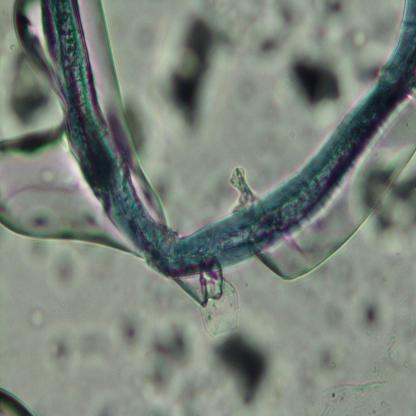Air bubble: (0, 2, 118, 260), (1, 389, 36, 416)
Background material: (269, 113, 416, 284), (154, 0, 233, 120), (118, 304, 193, 405), (356, 142, 416, 263), (273, 35, 351, 127), (356, 153, 416, 257), (209, 327, 284, 409), (352, 282, 412, 363), (257, 3, 318, 68), (45, 323, 109, 373), (315, 374, 384, 416), (306, 336, 354, 390), (344, 18, 382, 82), (140, 12, 170, 66), (56, 244, 85, 296), (317, 0, 349, 29), (25, 308, 52, 332)
Cotton: (49, 0, 416, 274)
